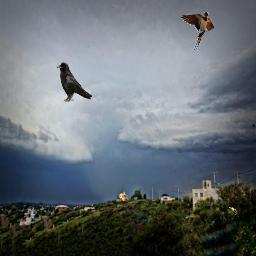Crow: (56, 62, 92, 102)
Cuckoo: (229, 207, 239, 217)
Swallow: (181, 12, 214, 52)
